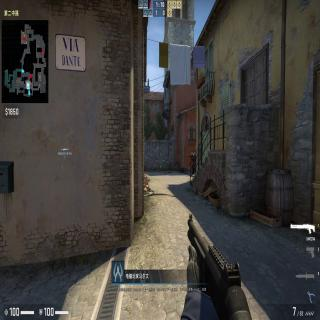T-Head: (193, 150, 196, 155), (191, 152, 193, 155)
